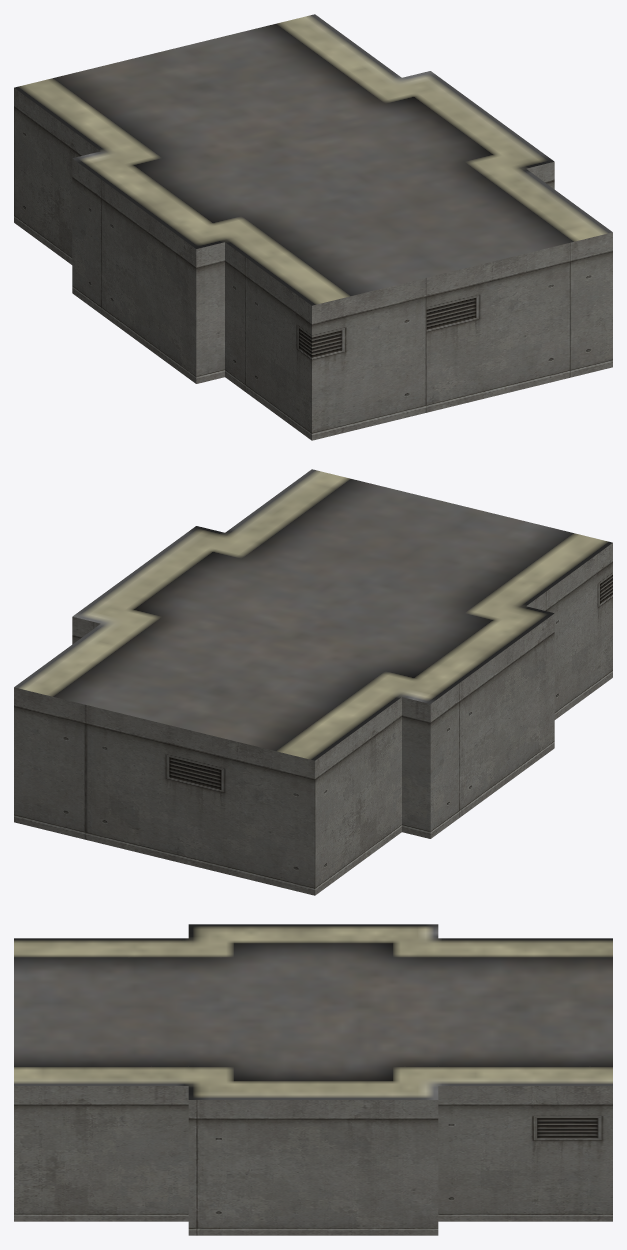
The model's file is building_medium_09.glb.
The picture shows the model from 3 angles, top to bottom: view 1: azimuth 30°, elevation 25°; view 2: azimuth 150°, elevation 25°; view 3: azimuth 270°, elevation 25°; orthographic projection.
Visible parts, largest first — view 1: buildings/saxarba/building_medium/building_medium_09; view 2: buildings/saxarba/building_medium/building_medium_09; view 3: buildings/saxarba/building_medium/building_medium_09.
Boxes of the visible parts, x1,y1,x2,y2 form: buildings/saxarba/building_medium/building_medium_09: (14,14,612,440); buildings/saxarba/building_medium/building_medium_09: (14,469,612,895); buildings/saxarba/building_medium/building_medium_09: (14,924,612,1235).
Size of the model in its own units: 50 by 18 by 72.
